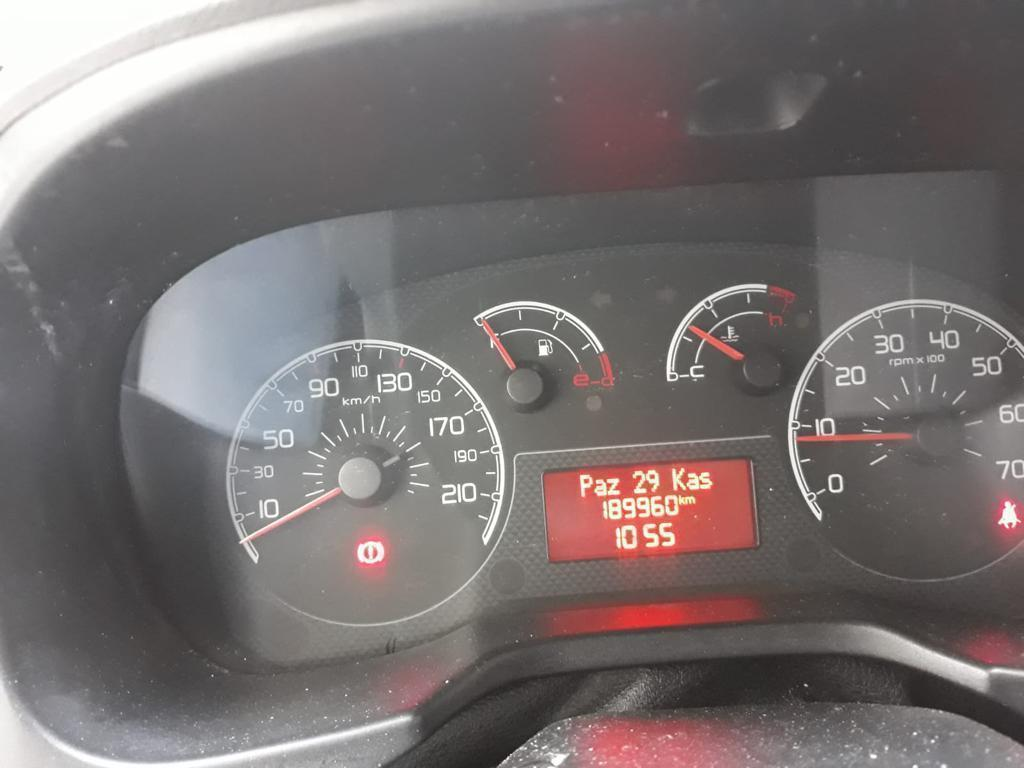0: (621, 523, 637, 550), (664, 494, 678, 515)
1: (601, 499, 608, 519), (615, 526, 621, 549)
2: (632, 469, 646, 493)
5: (641, 523, 659, 548), (658, 521, 675, 547)
6: (650, 495, 664, 517)
8: (608, 498, 621, 520)
9: (646, 468, 660, 492), (621, 497, 636, 519), (637, 496, 650, 518)
X: (671, 466, 686, 491), (579, 472, 593, 498), (593, 477, 607, 496), (699, 470, 712, 489), (686, 471, 699, 490), (607, 477, 620, 494), (685, 495, 696, 504), (678, 493, 685, 504)
odometer: (536, 453, 767, 567)
